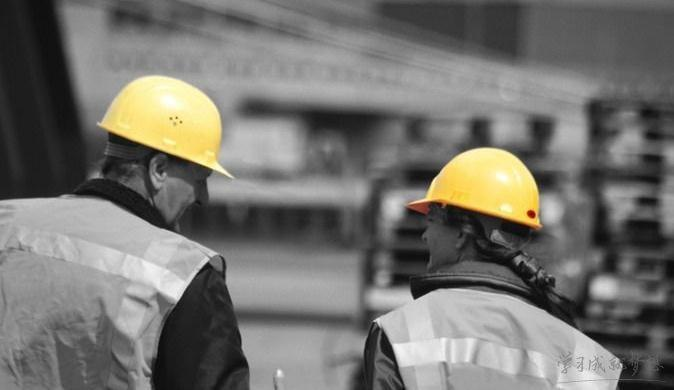helmet: (100, 71, 232, 175), (409, 149, 548, 214)
